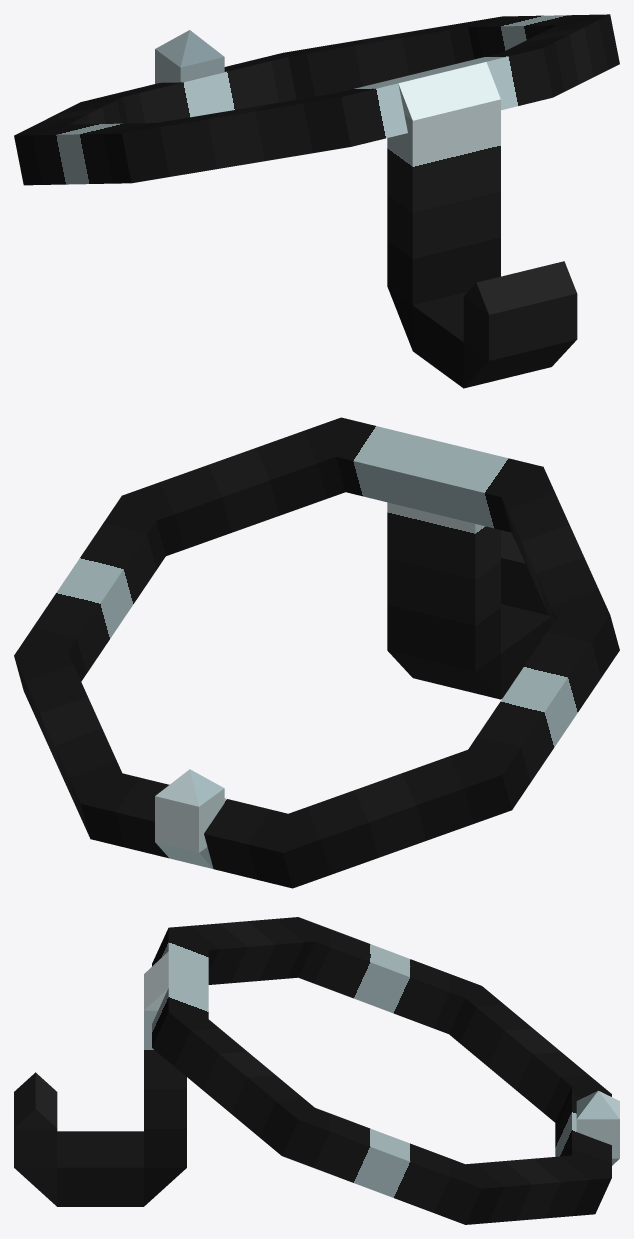
The model's file is lodestar_stabilizer.obj.
3 renders of one model, top to bottom at view 1: azimuth 30°, elevation 25°; view 2: azimuth 150°, elevation 25°; view 3: azimuth 270°, elevation 25°, orthographic. The views are drawn at different scales.
Parts seen in each view (by area): view 1: STABILIZER_Cube.002; view 2: STABILIZER_Cube.002; view 3: STABILIZER_Cube.002.
Part boxes in pixels (x1,y1,x2,y2): STABILIZER_Cube.002: (14, 14, 619, 388); STABILIZER_Cube.002: (14, 417, 619, 888); STABILIZER_Cube.002: (14, 917, 619, 1224).
Bounding box in the file's own units: 0.6929 × 0.349 × 0.875.
